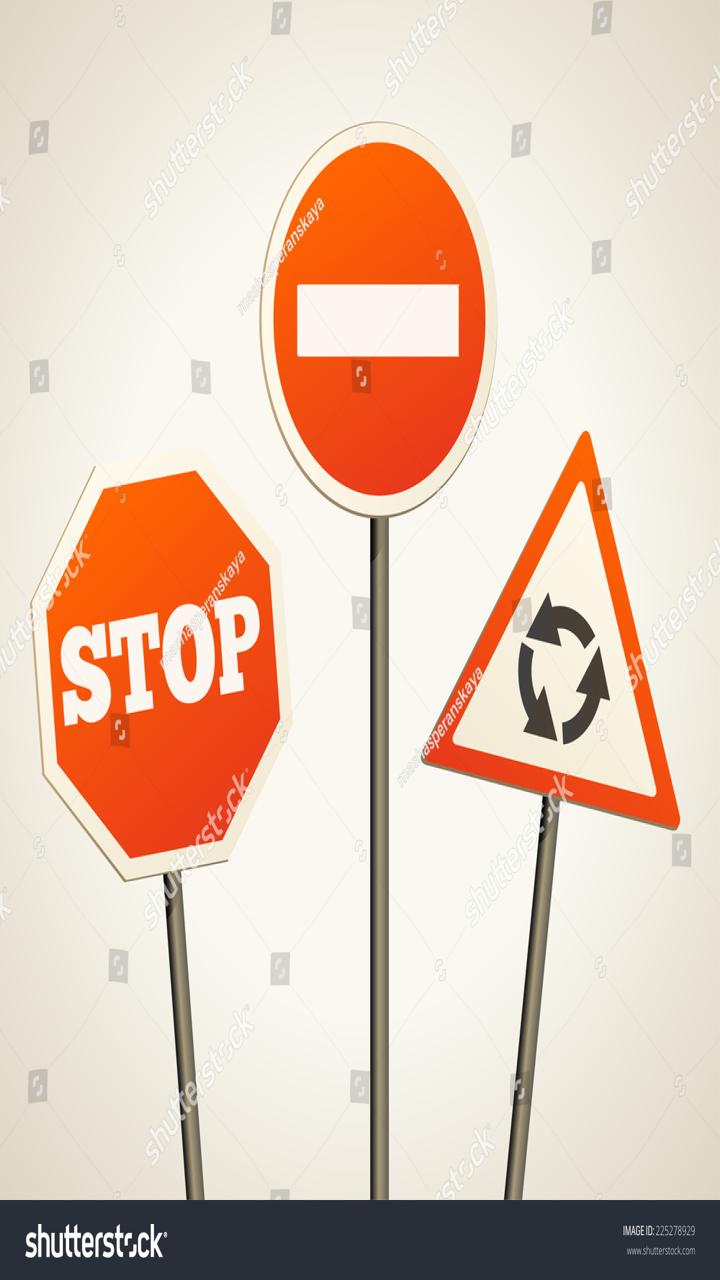Traffic sign: (408, 417, 687, 841), (11, 459, 287, 880), (241, 112, 517, 533)
